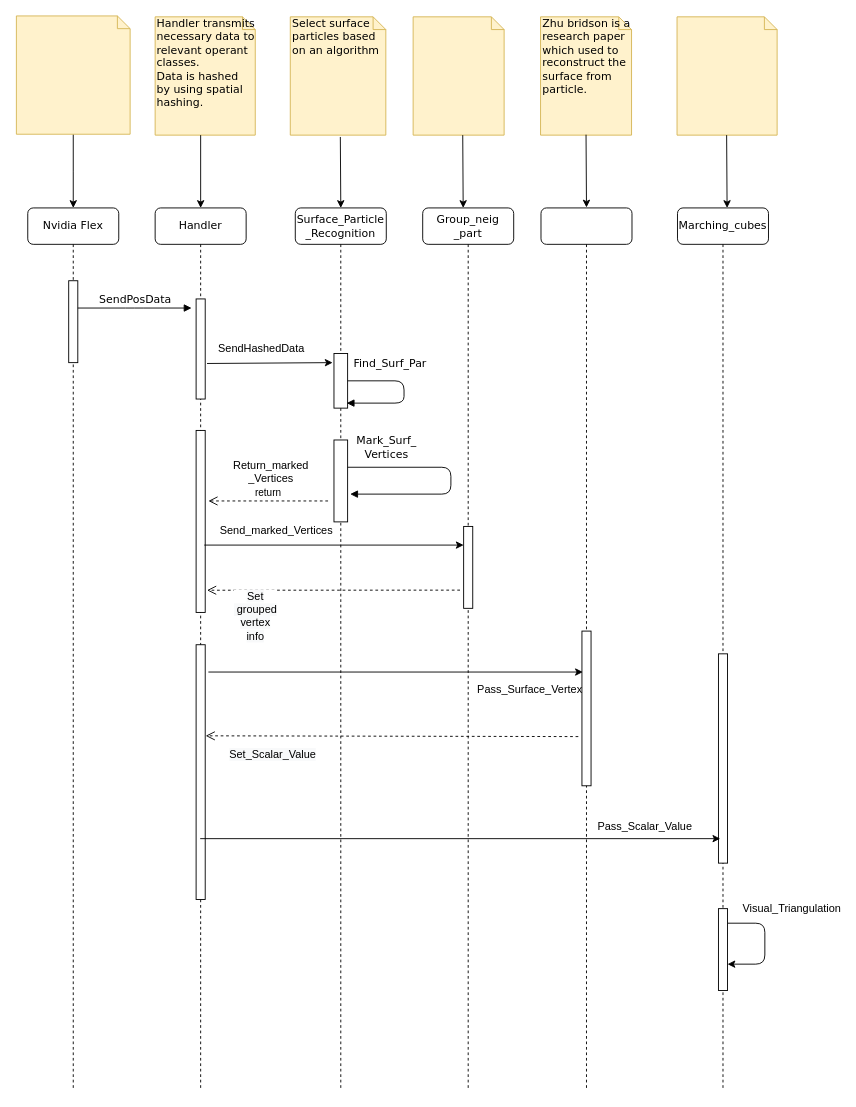
This 856x1107 diagram has some shape labels left out. The centre of each missing label's shape, as x and y in pixels:
Group Neighbour particles for each vertices: the point at 458,75
Nvidia Flex is an outside source and it creates particles and its attributes.: the point at 72,74
Visualization made by this class according to surface description.: the point at 726,75
Zhu&Bridson: the point at 586,649
